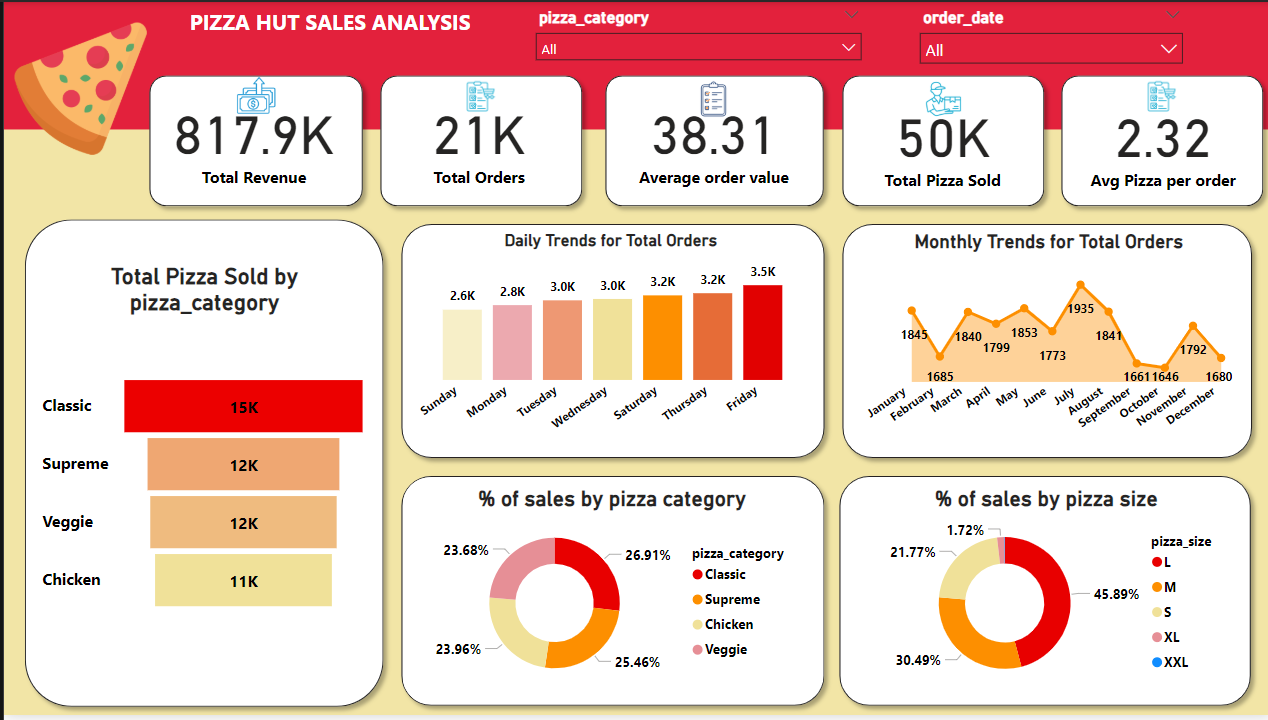

This screenshot's page, from the dashboard's own definition file:
{"tool":"powerbi","page":{"name":"Page 1","canvas":[1280,720],"ordinal":0},"visuals":[{"type":"textbox","box":[0,0,1280,128.3],"z":0},{"type":"image","box":[0,11.7,155,150],"z":1000},{"type":"slicer","fields":{"Values":["pizza_sales.pizza_category"]},"box":[526.7,0,348.3,65],"z":2000},{"type":"slicer","fields":{"Values":["pizza_sales.order_date"]},"box":[915,0,285,65],"z":3000},{"type":"shape","box":[138.3,65,233.3,150],"z":4000},{"type":"shape","box":[371.7,65,221.7,150],"z":5000},{"type":"shape","box":[598.3,65,238.3,150],"z":6000},{"type":"shape","box":[836.7,65,221.7,150],"z":7000},{"type":"shape","box":[1058.3,65,221.7,150],"z":8000},{"type":"shape","box":[11.7,210,380,510],"z":9000},{"type":"shape","box":[392.2,215,445.2,254.4],"z":10000},{"type":"shape","box":[837.4,215,431.5,254.4],"z":11000},{"type":"shape","box":[391.7,470,445,250],"z":12000},{"type":"shape","box":[835,470,433.3,250],"z":13000},{"type":"funnel","title":"Total Pizza Sold by pizza_category","fields":{"Category":["pizza_sales.pizza_category"],"Y":["Sum(pizza_sales.quantity)"]},"box":[33.3,263.3,338.3,411.7],"z":14000},{"type":"donutChart","title":"% of sales by pizza category","fields":{"Category":["pizza_sales.pizza_category"],"Y":["Sum(pizza_sales.total_price)"]},"box":[402.8,480,420.9,228.6],"z":15000},{"type":"donutChart","title":"% of sales by pizza size","fields":{"Y":["Sum(pizza_sales.total_price)"],"Category":["pizza_sales.pizza_size"]},"box":[848,480,407.3,228.6],"z":16000},{"type":"card","fields":{"Values":["pizza_sales.Average order value"]},"box":[611.7,78.7,210.5,119.6],"z":17000},{"type":"card","fields":{"Values":["pizza_sales.Total Orders"]},"box":[383.1,78.7,193.8,119.6],"z":18000},{"type":"card","fields":{"Values":["pizza_sales.Total Revenue"]},"box":[155,79.4,196.5,119.1],"z":19000},{"type":"card","fields":{"Values":["pizza_sales.Avg Pizza per order"]},"box":[1072.1,81.8,196.8,119.6],"z":20000},{"type":"card","fields":{"Values":["pizza_sales.Total Pizza Sold"]},"box":[849.5,81.8,196.8,119.6],"z":21000},{"type":"columnChart","title":"Daily Trends for Total Orders","fields":{"Category":["pizza_sales.weekday name"],"Y":["Count(pizza_sales.order_id)"]},"box":[413.4,230.2,398.2,218],"z":22000},{"type":"areaChart","title":"Monthly Trends for Total Orders","fields":{"Y":["pizza_sales.Total Orders"],"Category":["pizza_sales.Month Name"]},"box":[864.6,230.2,380.1,218],"z":23000},{"type":"image","box":[920.3,73.7,54.8,47.2],"z":24000},{"type":"image","box":[219.2,66.1,69.9,54.8],"z":25000},{"type":"image","box":[393.1,73.7,175.7,41.6],"z":26000},{"type":"image","box":[686,73.7,60.5,47.2],"z":27000},{"type":"image","box":[1081,73.7,175.7,41.6],"z":28000}]}

Visuals, with their boxes in screenshot pixels (x1, y1, x2, y2), scaled from the page's 1280x720 canvas onto the 1268x720 screenshot:
textbox: <bbox>0, 0, 1267, 128</bbox>
image: <bbox>0, 12, 154, 162</bbox>
slicer - pizza_sales.pizza_category: <bbox>522, 0, 867, 65</bbox>
slicer - pizza_sales.order_date: <bbox>906, 0, 1189, 65</bbox>
shape: <bbox>137, 65, 368, 215</bbox>
shape: <bbox>368, 65, 588, 215</bbox>
shape: <bbox>593, 65, 829, 215</bbox>
shape: <bbox>829, 65, 1048, 215</bbox>
shape: <bbox>1048, 65, 1267, 215</bbox>
shape: <bbox>12, 210, 388, 719</bbox>
shape: <bbox>389, 215, 830, 469</bbox>
shape: <bbox>830, 215, 1257, 469</bbox>
shape: <bbox>388, 470, 829, 719</bbox>
shape: <bbox>827, 470, 1256, 719</bbox>
"Total Pizza Sold by pizza_category" funnel: <bbox>33, 263, 368, 675</bbox>
"% of sales by pizza category" donutChart: <bbox>399, 480, 816, 709</bbox>
"% of sales by pizza size" donutChart: <bbox>840, 480, 1244, 709</bbox>
card - pizza_sales.Average order value: <bbox>606, 79, 814, 198</bbox>
card - pizza_sales.Total Orders: <bbox>380, 79, 571, 198</bbox>
card - pizza_sales.Total Revenue: <bbox>154, 79, 348, 198</bbox>
card - pizza_sales.Avg Pizza per order: <bbox>1062, 82, 1257, 201</bbox>
card - pizza_sales.Total Pizza Sold: <bbox>842, 82, 1036, 201</bbox>
"Daily Trends for Total Orders" columnChart: <bbox>410, 230, 804, 448</bbox>
"Monthly Trends for Total Orders" areaChart: <bbox>856, 230, 1233, 448</bbox>
image: <bbox>912, 74, 966, 121</bbox>
image: <bbox>217, 66, 286, 121</bbox>
image: <bbox>389, 74, 563, 115</bbox>
image: <bbox>680, 74, 740, 121</bbox>
image: <bbox>1071, 74, 1245, 115</bbox>
